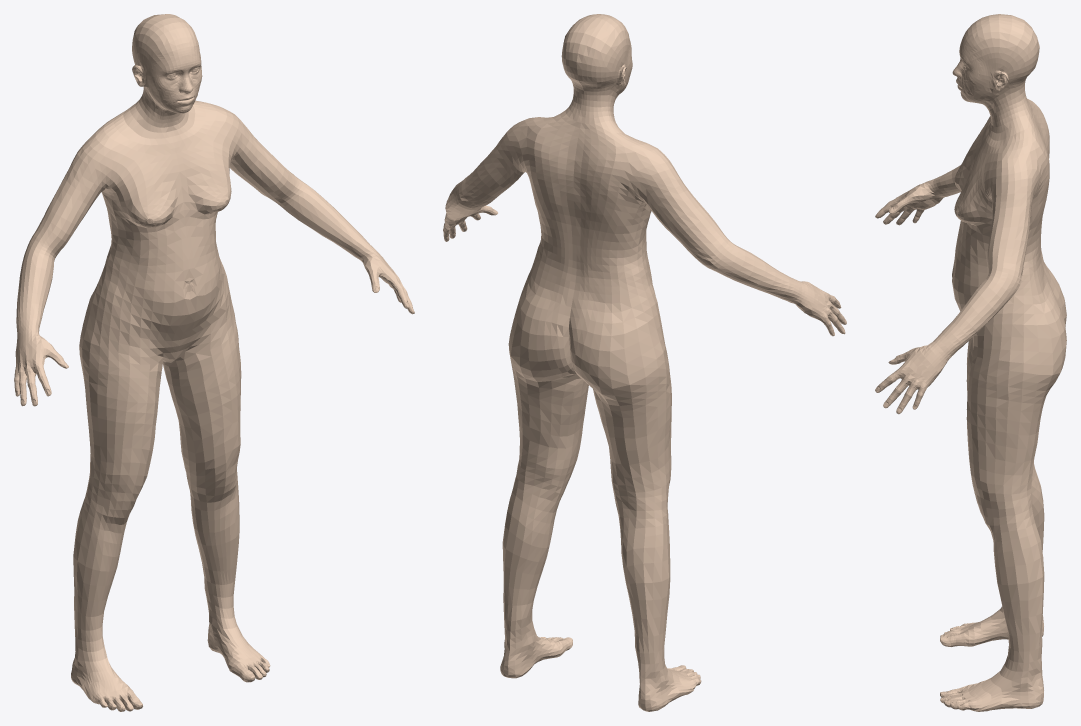
Rendered from female-mature-max-medium.glb.
3 views of the same model, side by side, from view 1: azimuth 30°, elevation 25°; view 2: azimuth 150°, elevation 25°; view 3: azimuth 270°, elevation 25° (orthographic).
Visible parts, largest first — view 1: world; view 2: world; view 3: world.
Part boxes in pixels (box(x1,y1,x2,y2)): world: box(14, 14, 414, 711); world: box(443, 14, 846, 711); world: box(875, 14, 1066, 711).
Size of the model in its own units: 1.13 by 1.81 by 0.4793.
